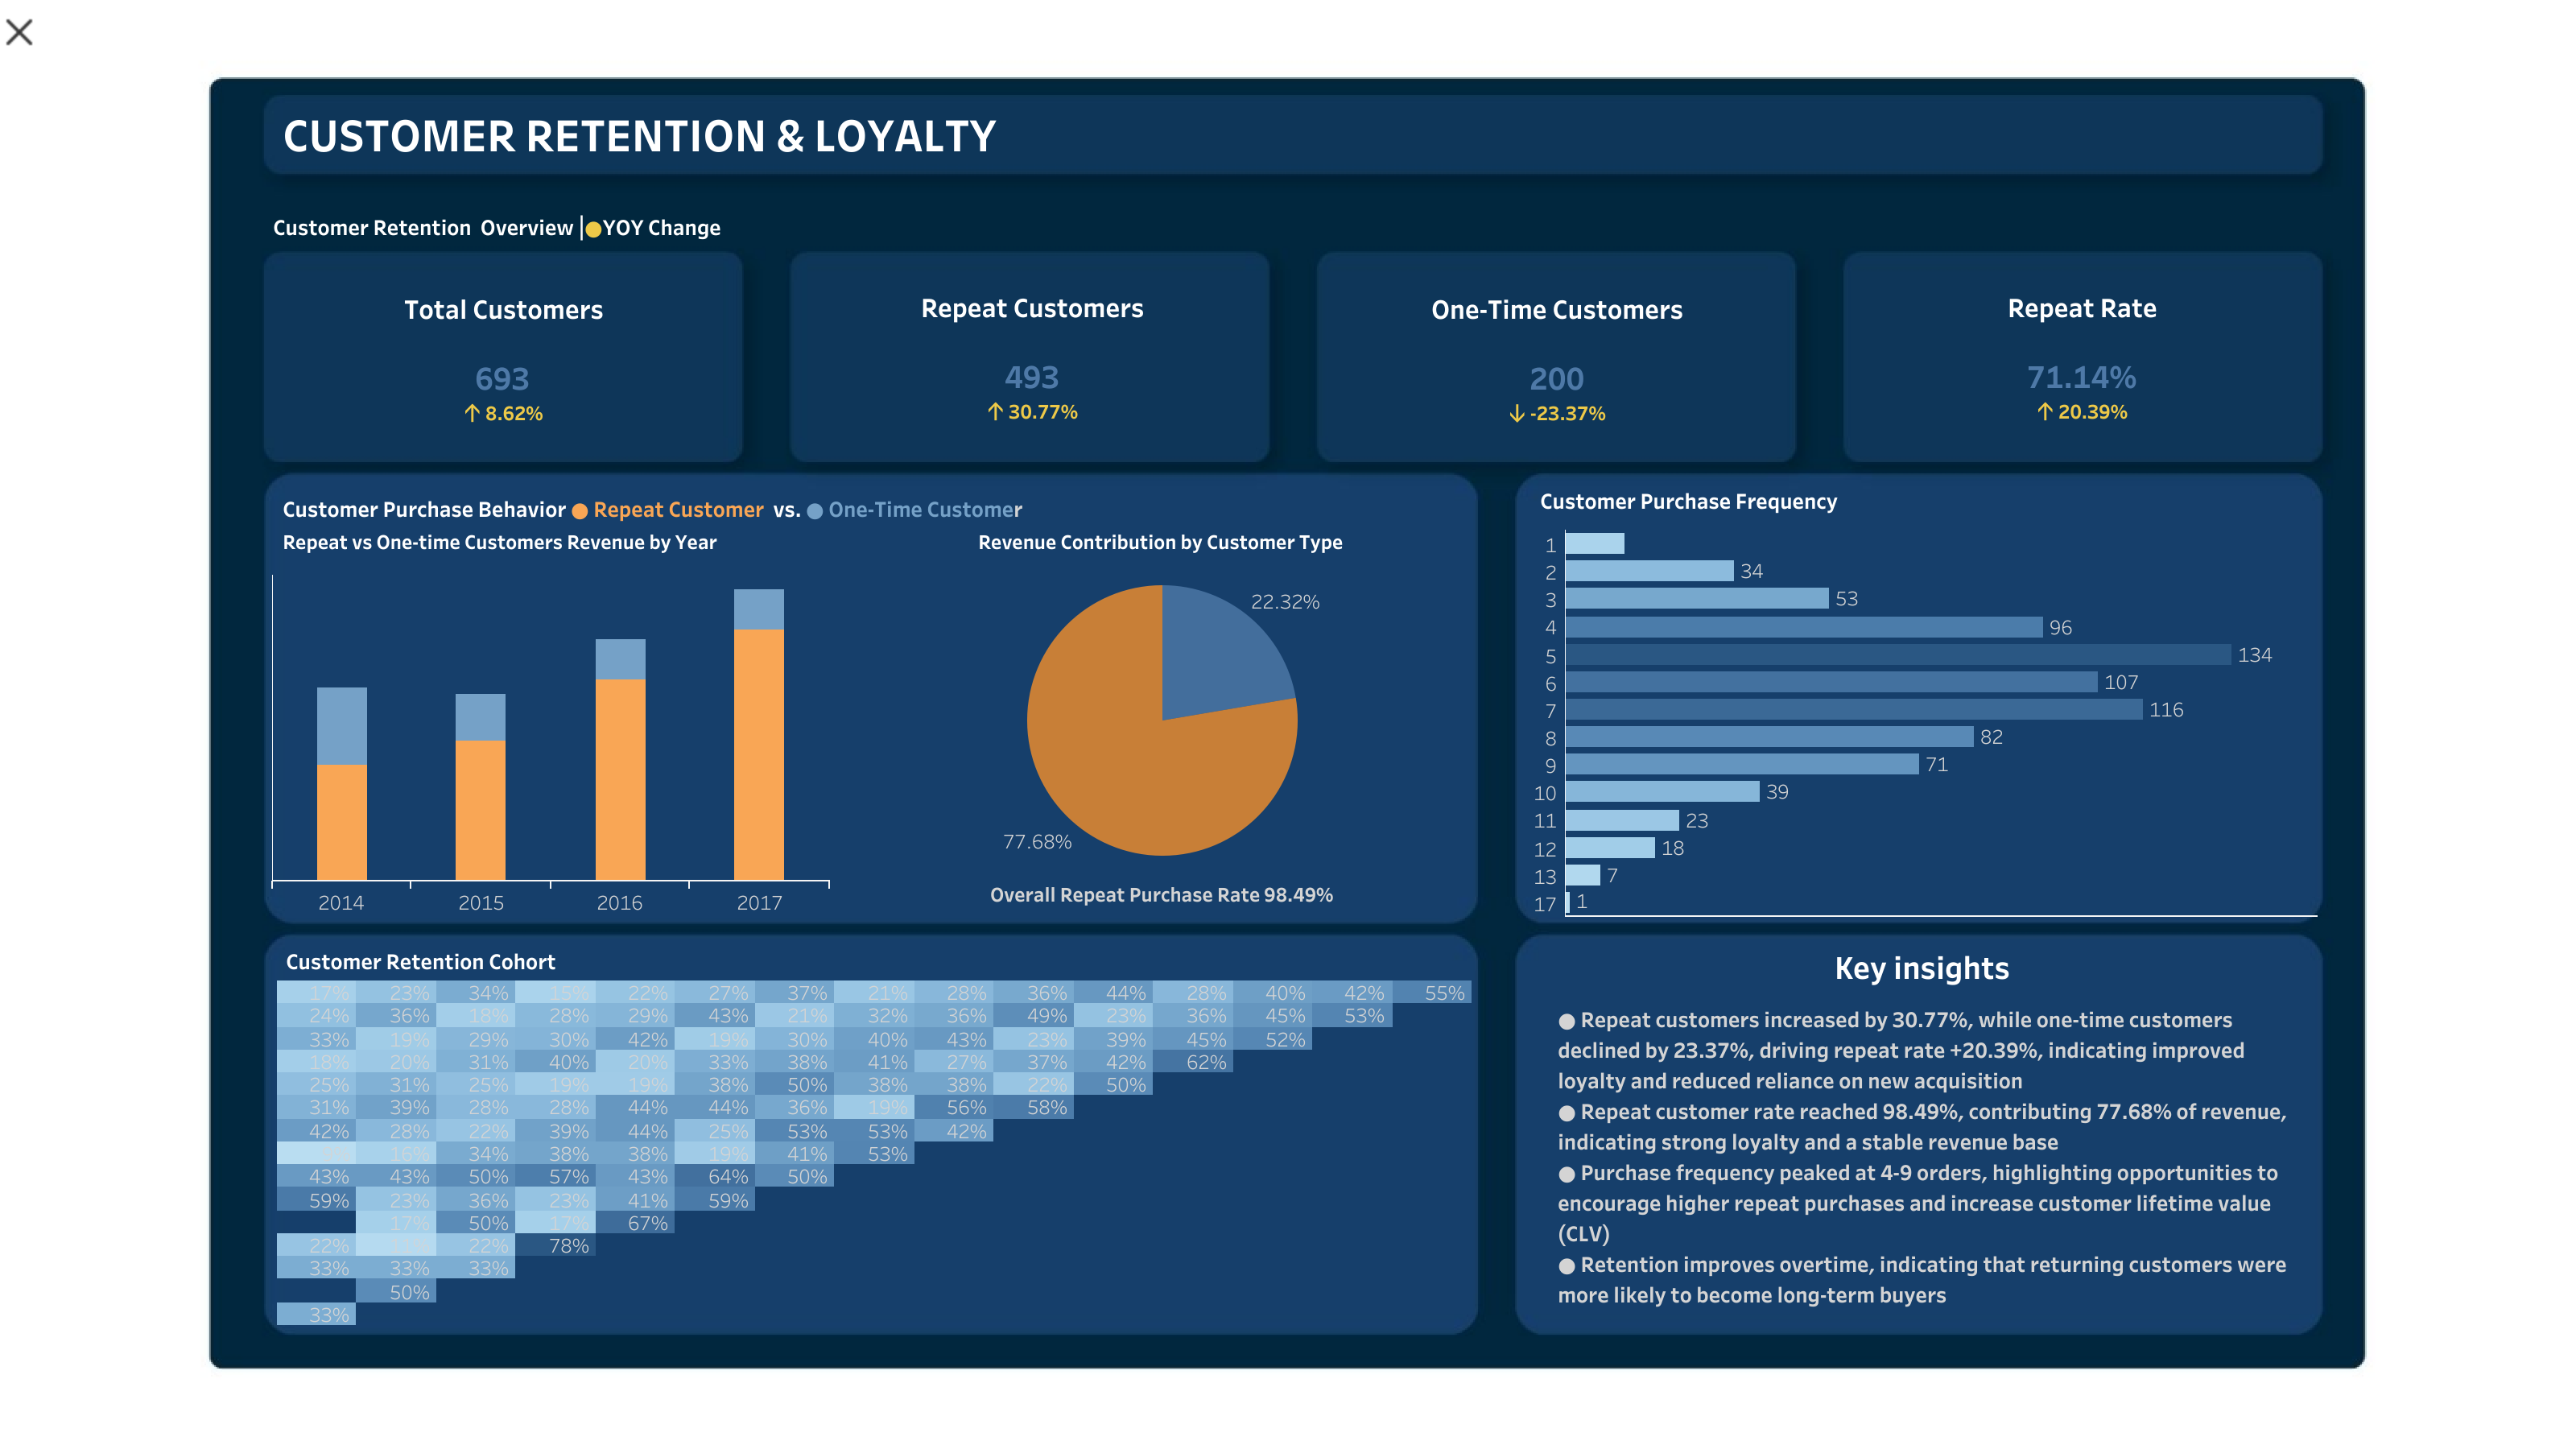

The page's visual inventory and layout, read from the dashboard file:
{"tool":"tableau","page":{"name":"Cus Retention","canvas":[1600,900],"ordinal":0},"visuals":[{"type":"dashboard-object","box":[0,8,24,24]},{"type":"image","param":"Image/White and Green Modern Clean Financial Performance Dashboard Whiteboard.jp","box":[8,8,1584,884]},{"type":"text","box":[173,60,867,46]},{"type":"text","box":[167,125,418,30]},{"type":"worksheet","title":"Repeat Cus KPI","mark":"Automatic","box":[490,155,304,134]},{"type":"worksheet","title":"Repeat Rate KPI","mark":"Automatic","box":[1146,157,296,130]},{"type":"worksheet","title":"Customer KPI","mark":"Automatic","box":[165,158,296,129]},{"type":"worksheet","title":"One-time Cus KPI","mark":"Automatic","box":[817,158,302,129]},{"type":"text","box":[954,295,415,30]},{"type":"text","box":[173,297,583,36]},{"type":"text","box":[173,321,288,30]},{"type":"text","box":[605,321,232,30]},{"type":"worksheet","title":"Purchase Frequency","mark":"Automatic","rows":["Number of Orders"],"cols":["Number of Customers"],"box":[941,325,502,248]},{"type":"worksheet","title":"Repeat Vs One-time Rev","mark":"Bar","rows":["Sales"],"cols":["Order Date"],"box":[165,353,354,220]},{"type":"worksheet","title":"Repeat cus contribute","mark":"Pie","box":[528,356,388,183]},{"type":"worksheet","title":"Repeat rate","mark":"Automatic","box":[528,539,388,32]},{"type":"text","box":[175,581,174,30]},{"type":"text","box":[944,585,500,30]},{"type":"worksheet","title":"Cohort","mark":"Automatic","rows":["Calculation_0014144578637867","Calculation_0014144579645484"],"cols":["Calculation_0014144582533166"],"box":[168,605,750,222]},{"type":"text","box":[965,621,473,194]}]}

Visuals, with their boxes in screenshot pixels (x1, y1, x2, y2), scaled from the page's 1600x900 canvas onto the 2576x1449 screenshot:
dashboard-object: (left=0, top=13, right=39, bottom=52)
image: (left=13, top=13, right=2563, bottom=1436)
text: (left=279, top=97, right=1674, bottom=171)
text: (left=269, top=201, right=942, bottom=250)
"Repeat Cus KPI" worksheet: (left=789, top=250, right=1278, bottom=465)
"Repeat Rate KPI" worksheet: (left=1845, top=253, right=2322, bottom=462)
"Customer KPI" worksheet: (left=266, top=254, right=742, bottom=462)
"One-time Cus KPI" worksheet: (left=1315, top=254, right=1802, bottom=462)
text: (left=1536, top=475, right=2204, bottom=523)
text: (left=279, top=478, right=1217, bottom=536)
text: (left=279, top=517, right=742, bottom=565)
text: (left=974, top=517, right=1348, bottom=565)
"Purchase Frequency" worksheet: (left=1515, top=523, right=2323, bottom=923)
"Repeat Vs One-time Rev" worksheet (Bar marks): (left=266, top=568, right=836, bottom=923)
"Repeat cus contribute" worksheet (Pie marks): (left=850, top=573, right=1475, bottom=868)
"Repeat rate" worksheet: (left=850, top=868, right=1475, bottom=919)
text: (left=282, top=935, right=562, bottom=984)
text: (left=1520, top=942, right=2325, bottom=990)
"Cohort" worksheet: (left=270, top=974, right=1478, bottom=1331)
text: (left=1554, top=1000, right=2315, bottom=1312)
